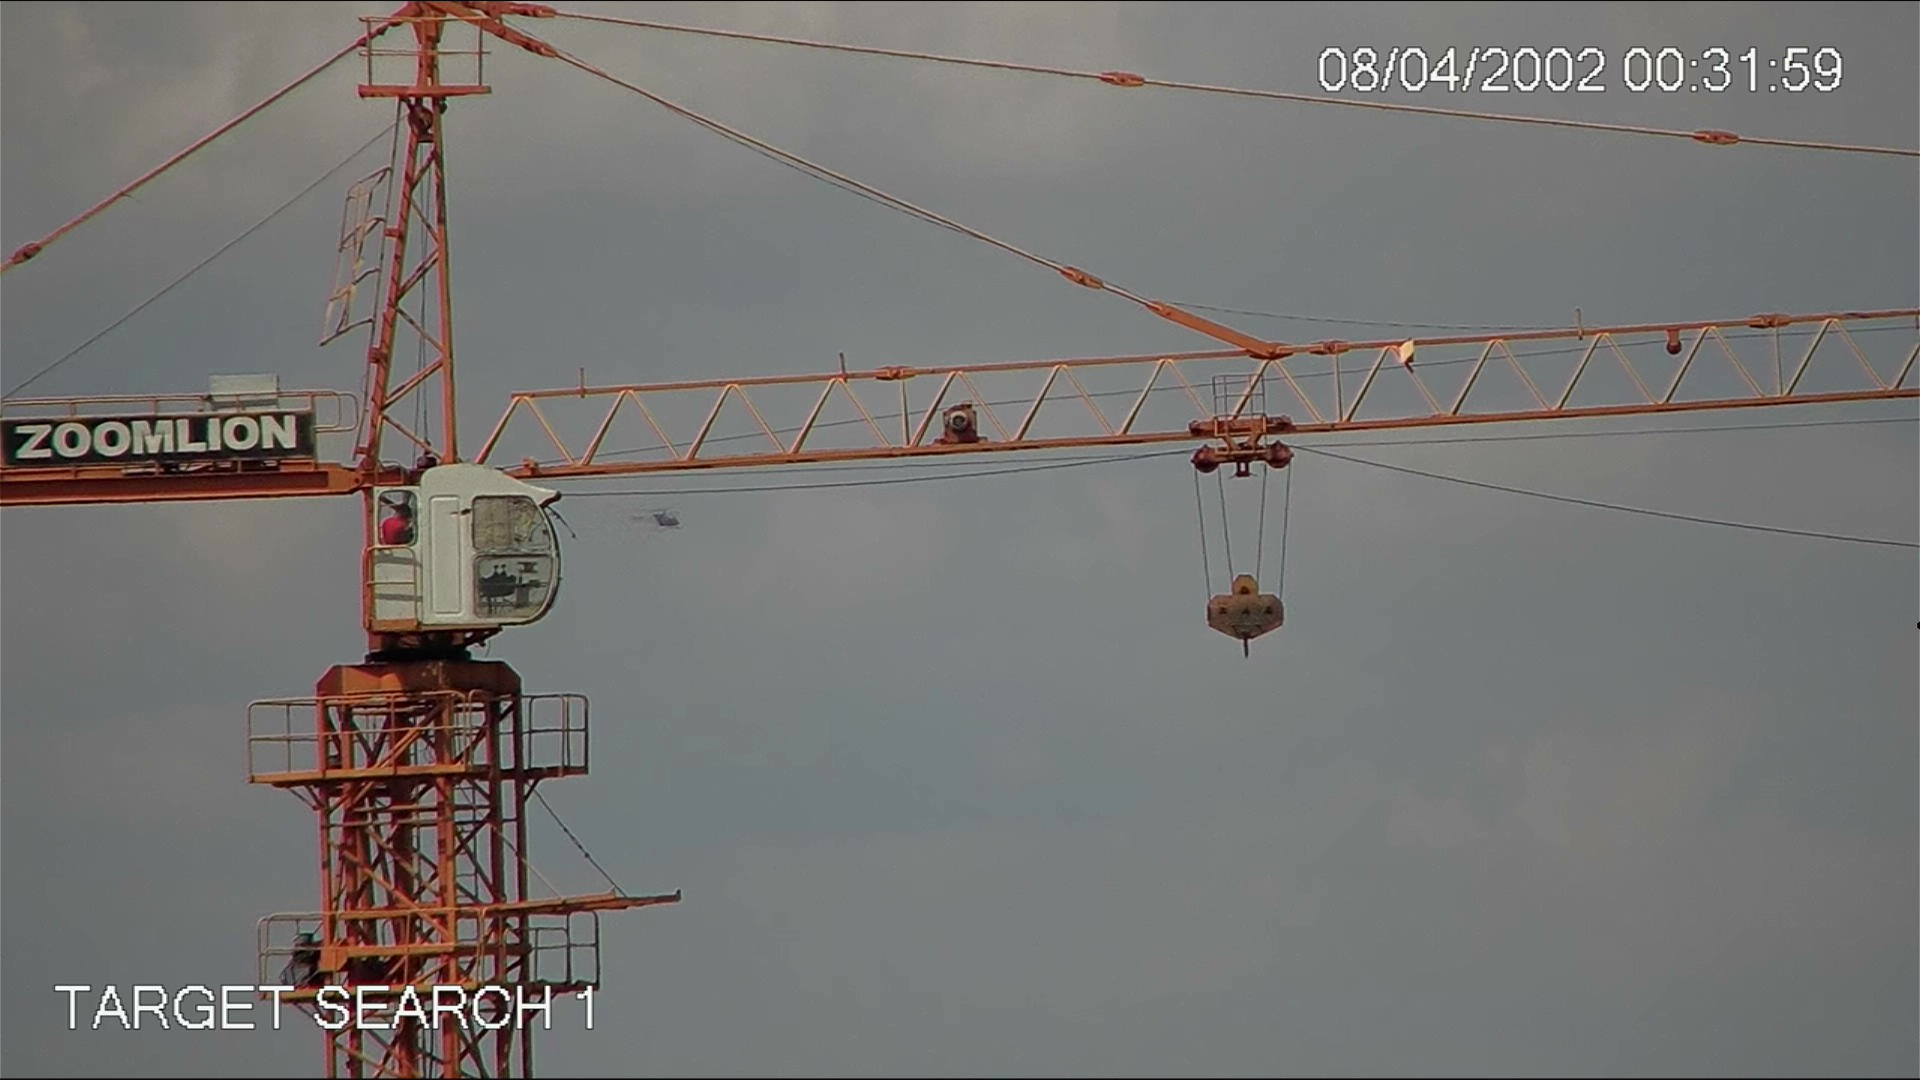SU_30: (622, 500, 684, 539)
